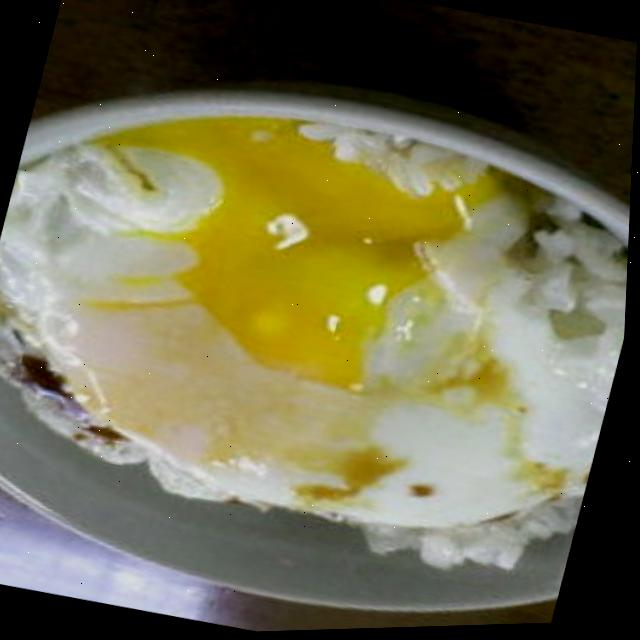鸡蛋料理: (0, 52, 638, 625)
